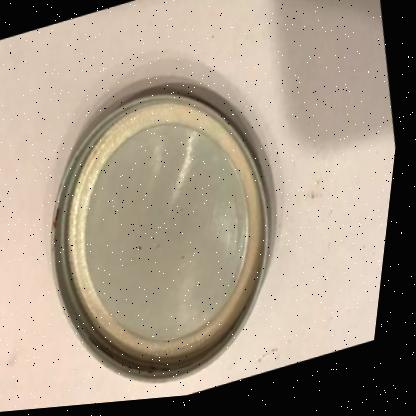Metal: (56, 97, 274, 385)
